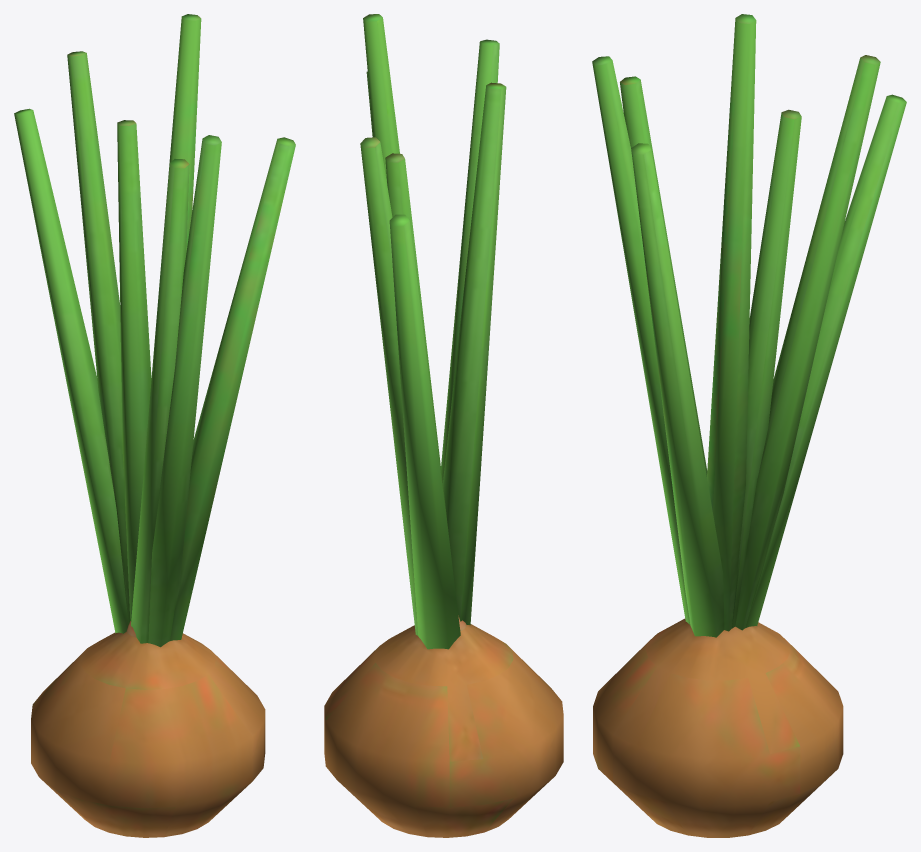
File: crop_onion.glb
3 renders of one model, left to right at view 1: azimuth 30°, elevation 25°; view 2: azimuth 150°, elevation 25°; view 3: azimuth 270°, elevation 25°, orthographic. The views are drawn at different scales.
Visible parts, largest first — view 1: crop_onion, fruit; view 2: crop_onion, fruit; view 3: crop_onion, fruit.
Boxes of the visible parts, x1=… form: crop_onion: x1=14, y1=14, x2=295, y2=647; fruit: x1=31, y1=621, x2=265, y2=837; crop_onion: x1=360, y1=14, x2=506, y2=649; fruit: x1=324, y1=615, x2=563, y2=837; crop_onion: x1=592, y1=14, x2=906, y2=637; fruit: x1=593, y1=618, x2=843, y2=837.
Size of the model in its own units: 0.0986 by 0.3454 by 0.1195.
1 material, 1 textured.
